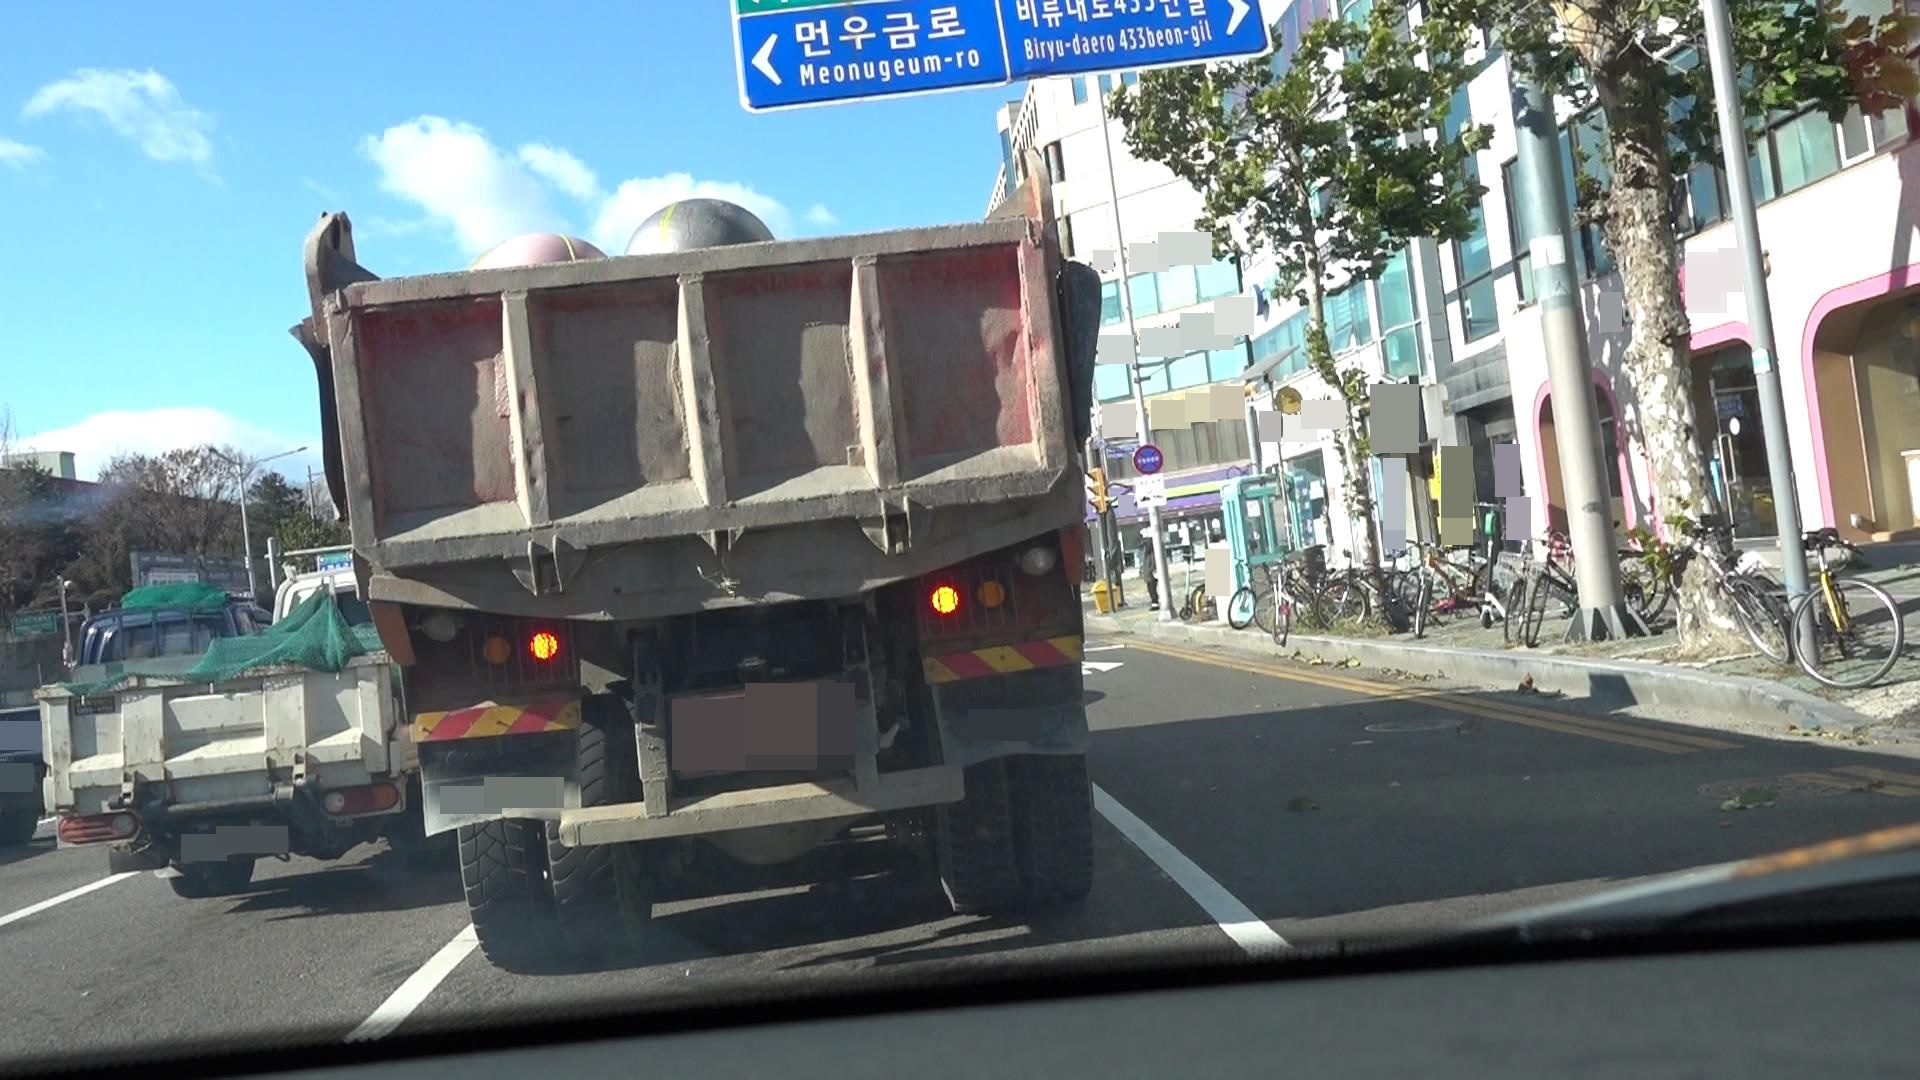불법차량: (290, 148, 1102, 975)
